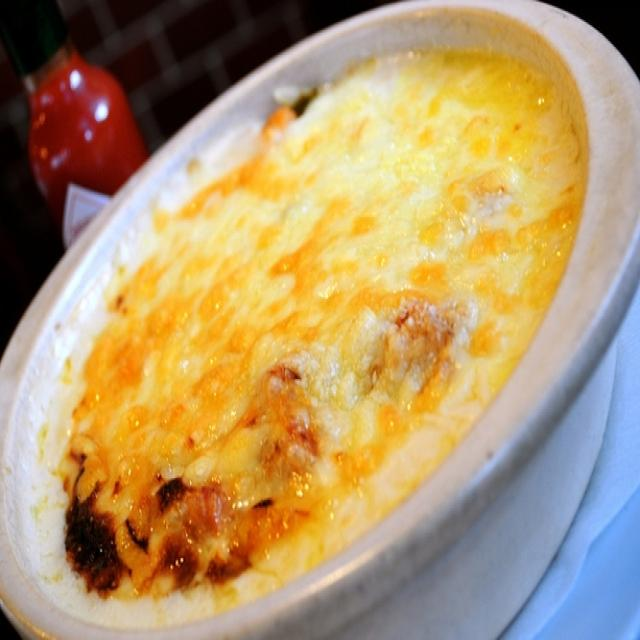米饭主食: (7, 9, 612, 626)
